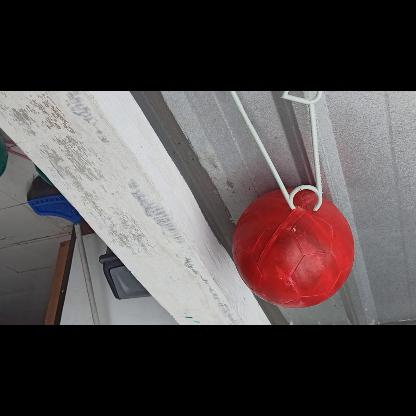red_ball: (234, 187, 356, 309)
